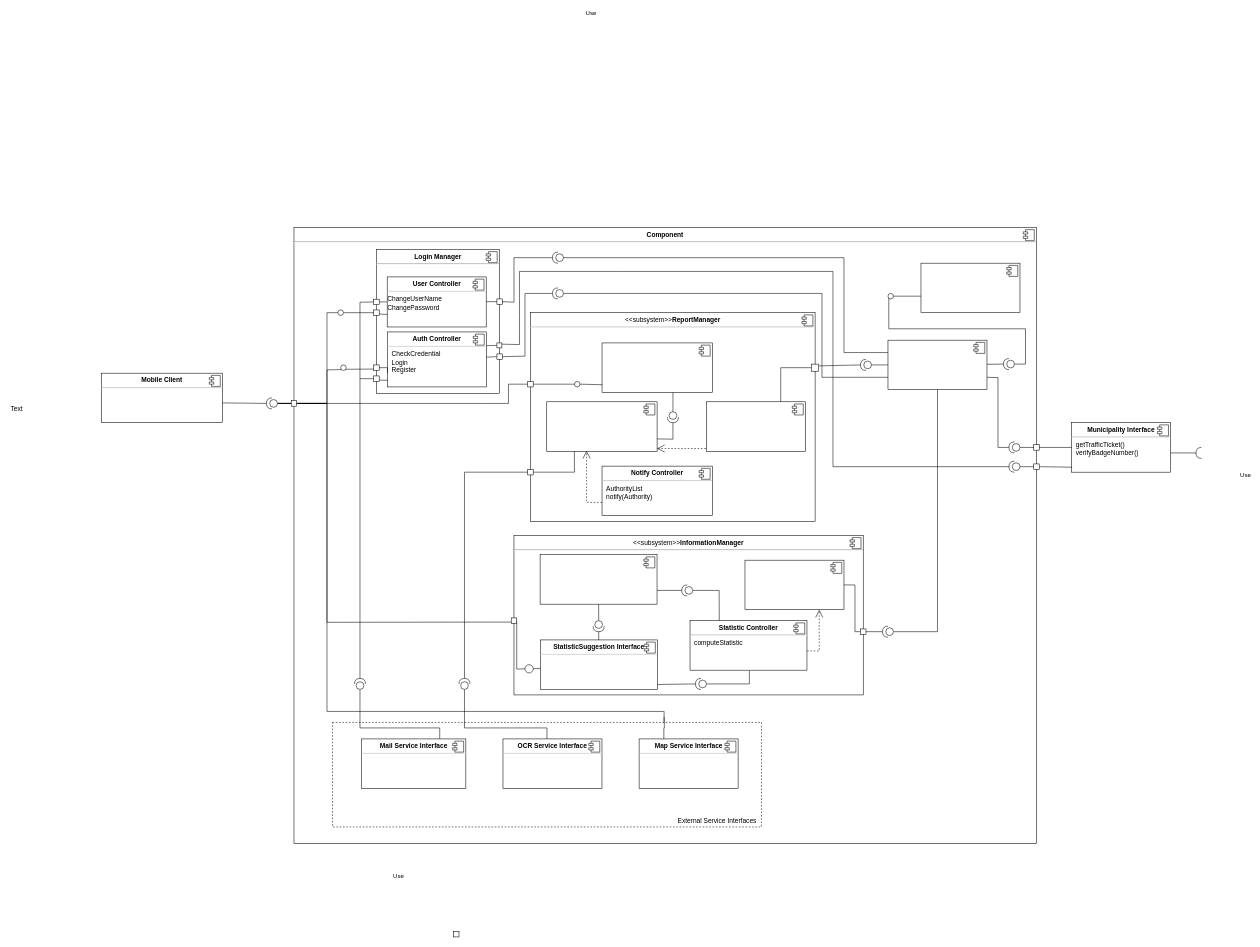
Image size: 1260x947. Some labels were removed from this diagram. Each missing label, with the centre of its shape:
"AI controller computeSuggestion(statistics)" belongs at point 598,579.
"DB Report User" belongs at point 970,288.
"Report Controller checkConsistency(Report)" belongs at point 601,426.
"Report Interface" belongs at point 656,367.
"Security Manager decrypt(report)" belongs at point 794,585.
"Security Manager encrypt(report)" belongs at point 755,426.
"Storage Interface Save Load Search" belongs at point 937,365.
